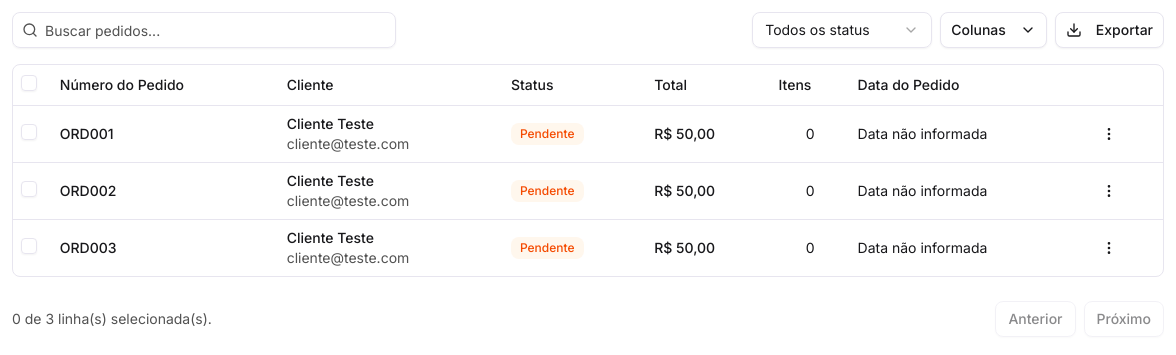
Test: Ações em Massa - DataTable › Atualização de Status em Massa › deve exibir "Mover para <próximo status>" no menu de ações da linha
Click the button named "Abrir menu" in the row of "ORD001" at (1109, 134), box [1093, 118, 1125, 150]
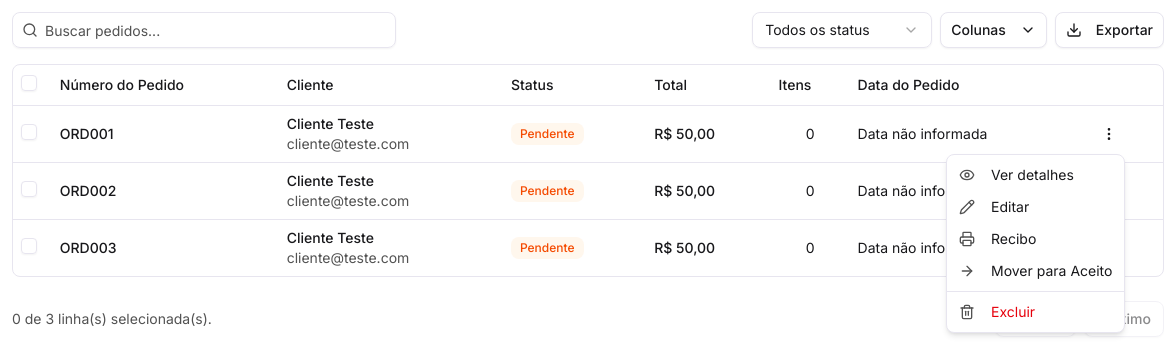
Expected: the menu item "Mover para Aceito" is shown, [959, 262, 1112, 279]
